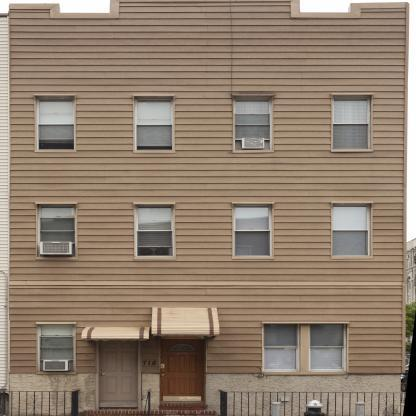Building Outline: (9, 0, 410, 416)
Door: (161, 340, 205, 401), (98, 340, 138, 401)
Facade: (9, 0, 408, 415)
Floor: (9, 185, 405, 281)
Floor Slab: (9, 280, 405, 289), (9, 177, 405, 185)
Ground Floor: (9, 289, 405, 416)
Top Floor: (9, 19, 405, 177)
Window: (39, 206, 75, 257), (136, 206, 172, 257), (235, 206, 271, 257), (334, 206, 370, 257), (335, 99, 371, 149), (38, 99, 74, 149), (136, 99, 172, 149), (235, 99, 271, 149), (38, 324, 74, 372), (264, 324, 300, 371), (310, 324, 346, 371)
